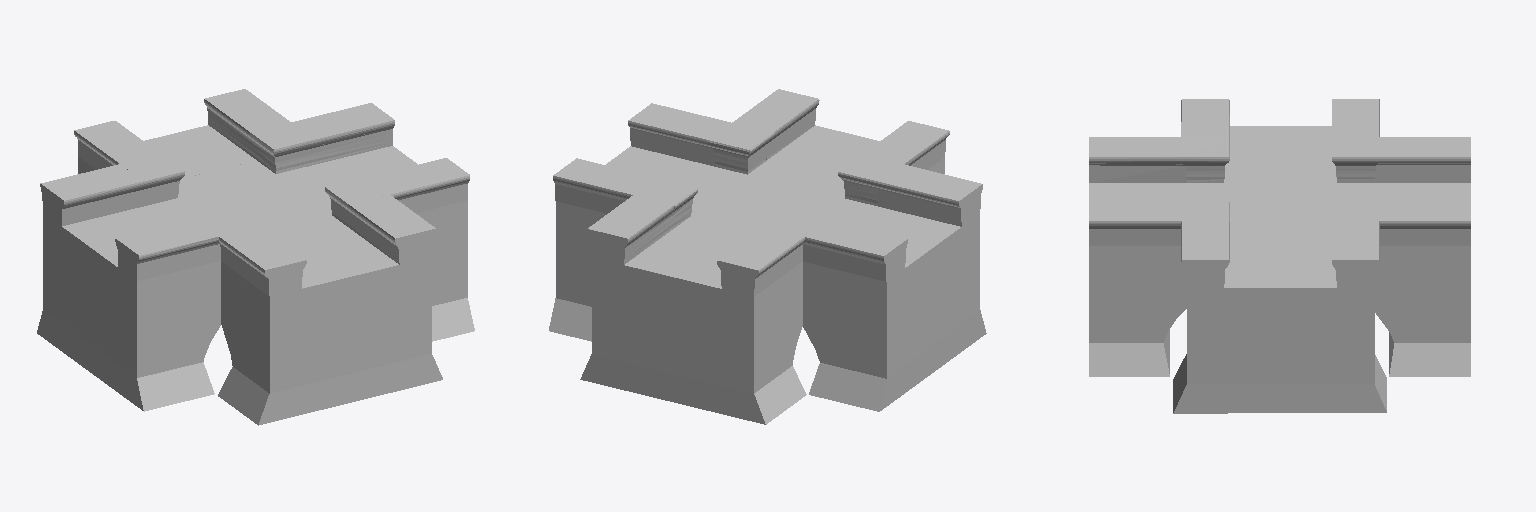
File: pieces3D_pieceX.obj
3 renders of one model, left to right at view 1: azimuth 30°, elevation 25°; view 2: azimuth 150°, elevation 25°; view 3: azimuth 270°, elevation 25°, orthographic.
Visible parts, largest first — view 1: Plane.004; view 2: Plane.004; view 3: Plane.004.
Boxes of the visible parts, box(x1,y1,x2,y2) form: Plane.004: box(37, 89, 474, 425); Plane.004: box(549, 89, 986, 424); Plane.004: box(1089, 99, 1470, 413).
Size of the model in its own units: 4.12 by 1.82 by 4.12.